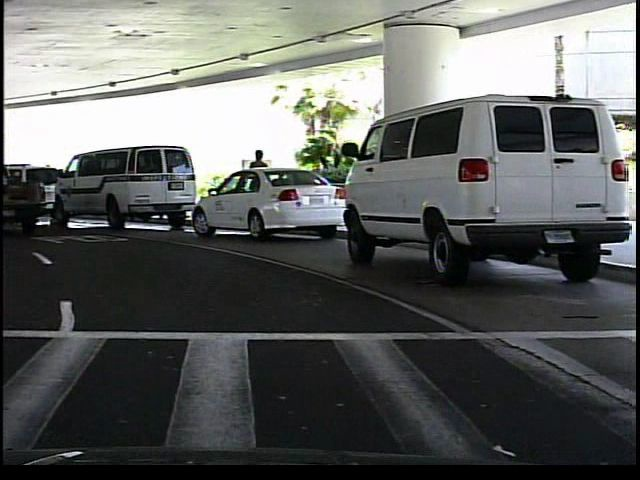person: (245, 144, 273, 220)
